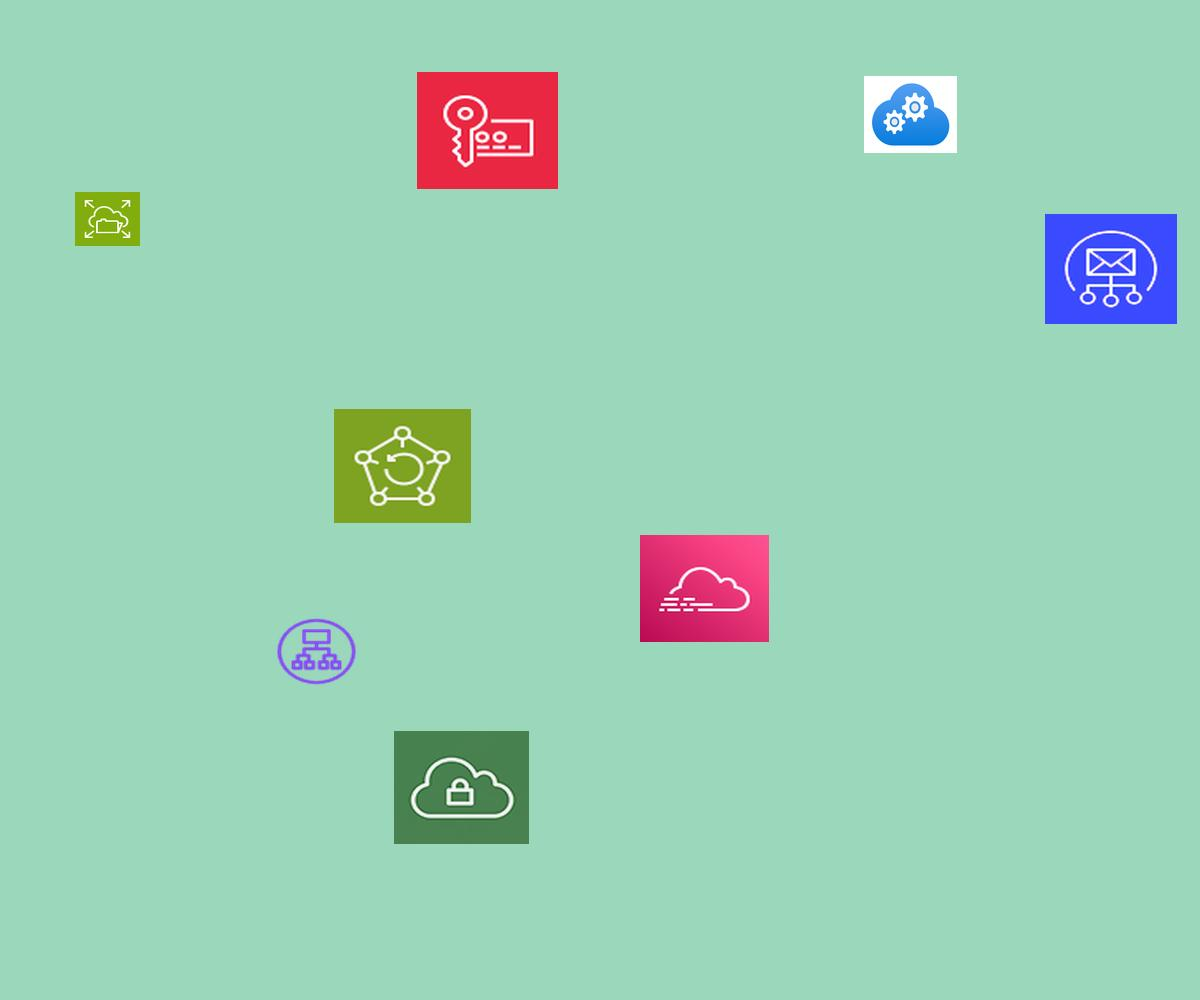AWS-Backup: (334, 409, 471, 523)
AWS-CloudTrail: (640, 535, 769, 642)
AWS-EFS: (75, 192, 140, 246)
AWS-Key-Management-Service: (417, 72, 558, 189)
AWS-Private_vpc: (394, 731, 529, 844)
AWS-Res_Elastic-Load-Balancing_Application-Load-Balancer: (274, 616, 359, 687)
AWS-Simple-Email-Service: (1045, 214, 1177, 324)
Azure_cloud_services: (864, 76, 957, 153)
